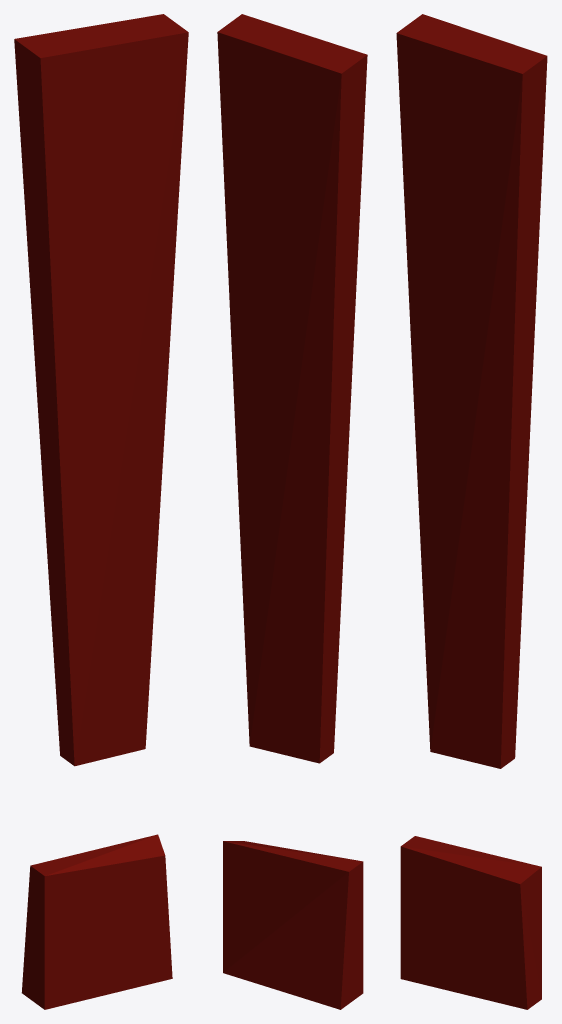
Rendered from Sign_4.fbx.
3 renders of one model, left to right at view 1: azimuth 30°, elevation 25°; view 2: azimuth 150°, elevation 25°; view 3: azimuth 330°, elevation 25°, orthographic.
Visible parts, largest first — view 1: Sign_4; view 2: Sign_4; view 3: Sign_4.
Boxes of the visible parts, <box> form: Sign_4: <box>14,14,188,1009</box>; Sign_4: <box>217,14,367,1009</box>; Sign_4: <box>396,14,547,1009</box>.
Bounding box in the file's own units: 31.24 × 206 × 14.45.
